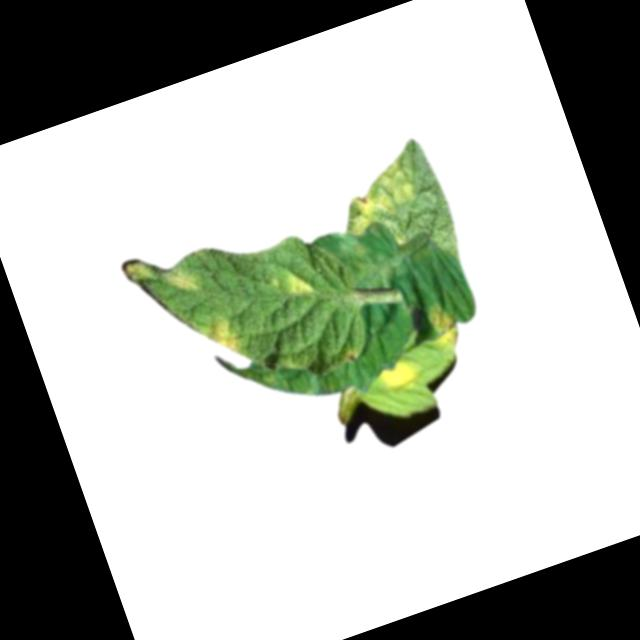Leaf_Mold: (334, 159, 421, 237), (424, 298, 470, 356), (375, 352, 430, 399), (198, 312, 245, 361), (279, 264, 321, 306), (120, 256, 155, 292), (165, 263, 198, 298)
